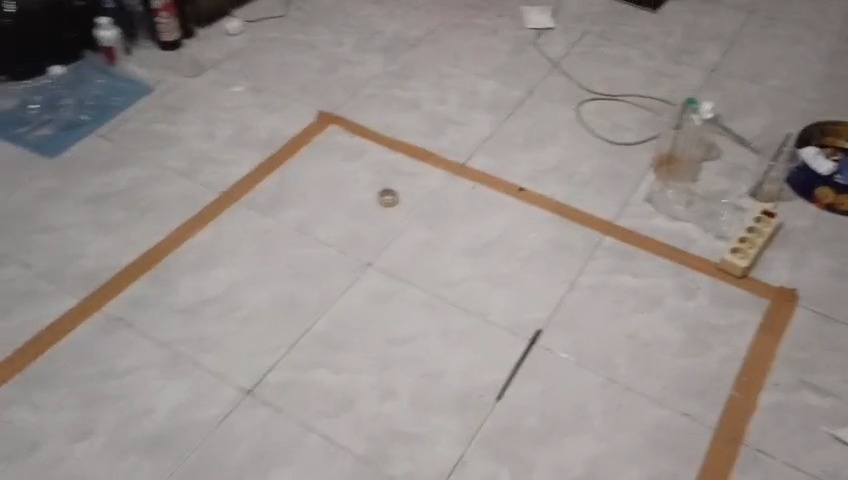floor marking: (0, 111, 798, 479)
